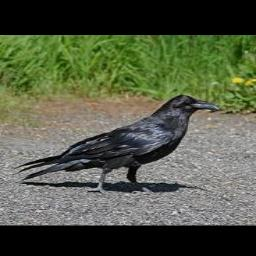Crow: (10, 94, 220, 197)
